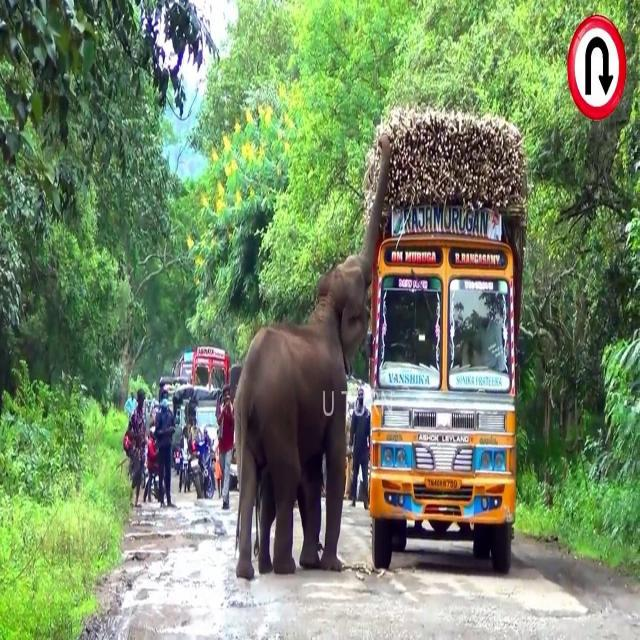Elephant: (232, 132, 392, 582)
